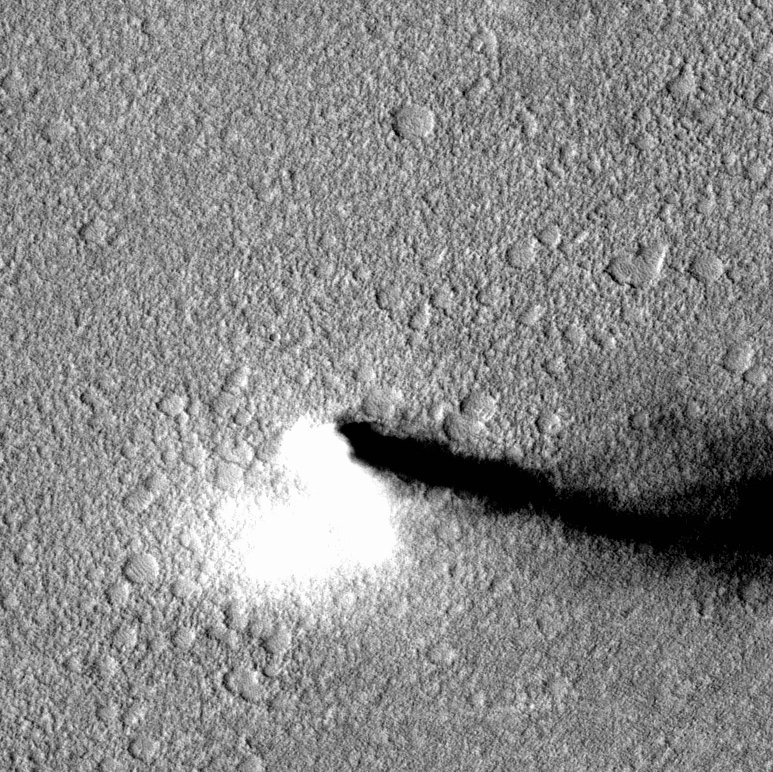dust_devil: (207, 405, 773, 602)
